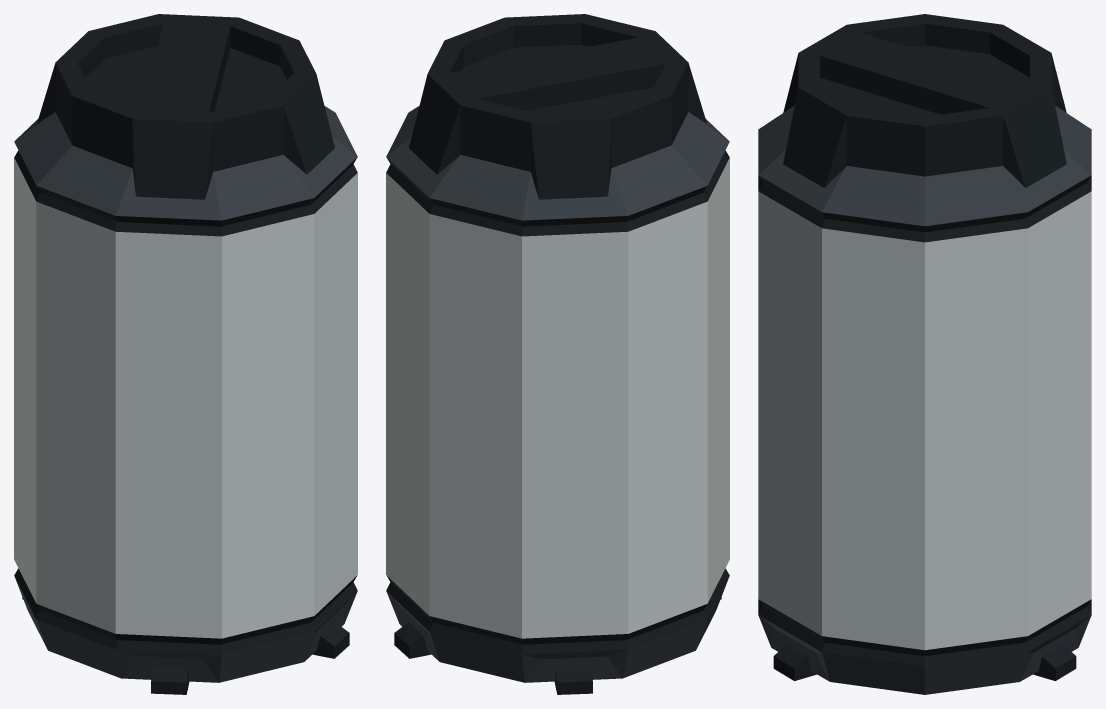
The model's file is prop38.FBX.
The picture shows the model from 3 angles, left to right: view 1: azimuth 30°, elevation 25°; view 2: azimuth 150°, elevation 25°; view 3: azimuth 270°, elevation 25°; orthographic projection.
Parts seen in each view (by area): view 1: prop38; view 2: prop38; view 3: prop38.
Boxes of the visible parts, x1,y1,x2,y2 form: prop38: [14, 14, 357, 694]; prop38: [386, 14, 729, 694]; prop38: [758, 14, 1091, 694].
Bounding box in the file's own units: 6.75 × 11.95 × 6.42.
